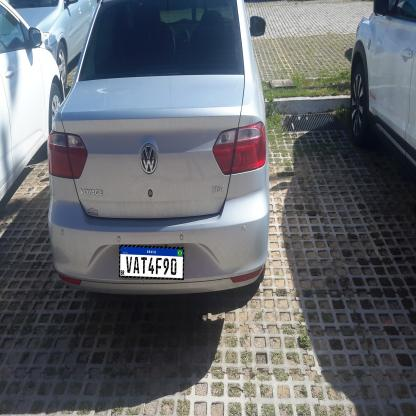PlacaM: (119, 245, 184, 280)
